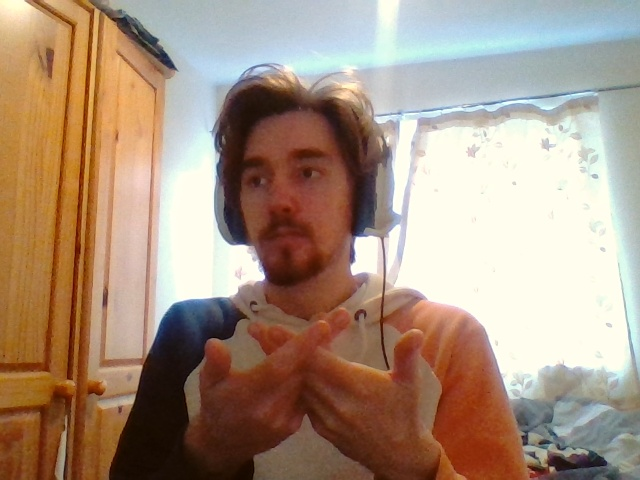how: (198, 308, 423, 455)
